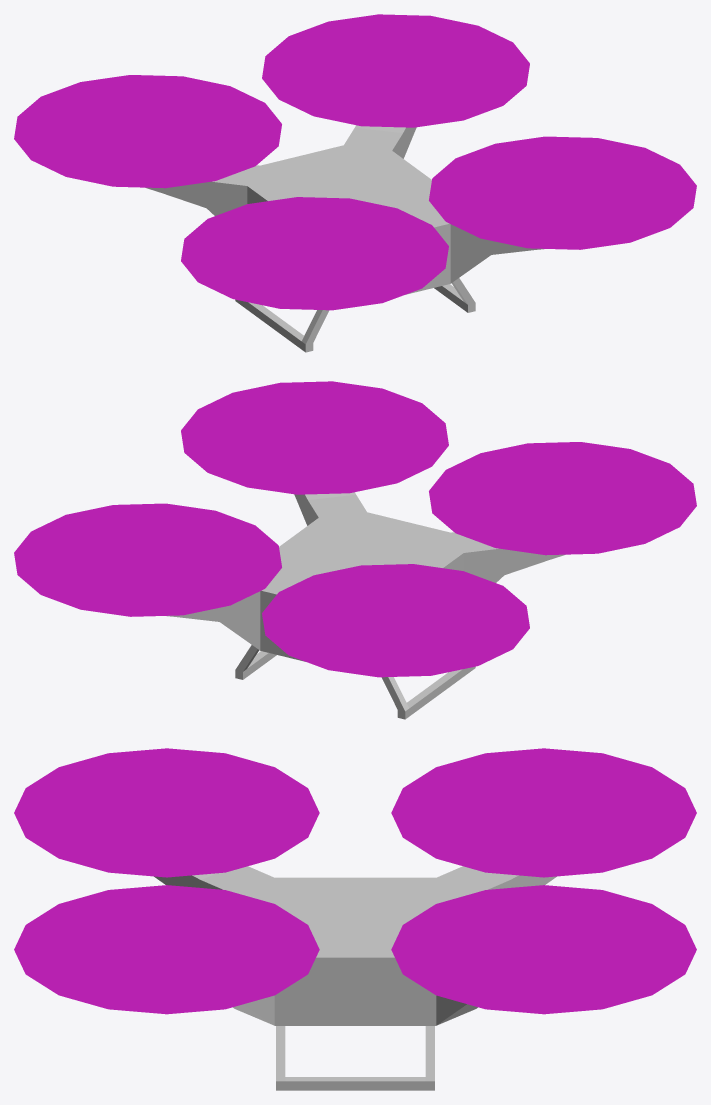
Rendered from drone.obj.
3 views of the same model, one above another, from view 1: azimuth 30°, elevation 25°; view 2: azimuth 150°, elevation 25°; view 3: azimuth 270°, elevation 25° (orthographic). The views are drawn at different scales.
Visible parts, largest first — view 1: Plane.001, Plane; view 2: Plane.001, Plane; view 3: Plane.001, Plane.
Boxes of the visible parts, x1,y1,x2,y2 form: Plane.001: [14, 14, 696, 310]; Plane: [145, 125, 543, 352]; Plane.001: [14, 381, 696, 677]; Plane: [167, 492, 565, 719]; Plane.001: [14, 748, 696, 1014]; Plane: [154, 866, 556, 1090].
Bounding box in the file's own units: 6.66 × 1.9 × 7.23.
